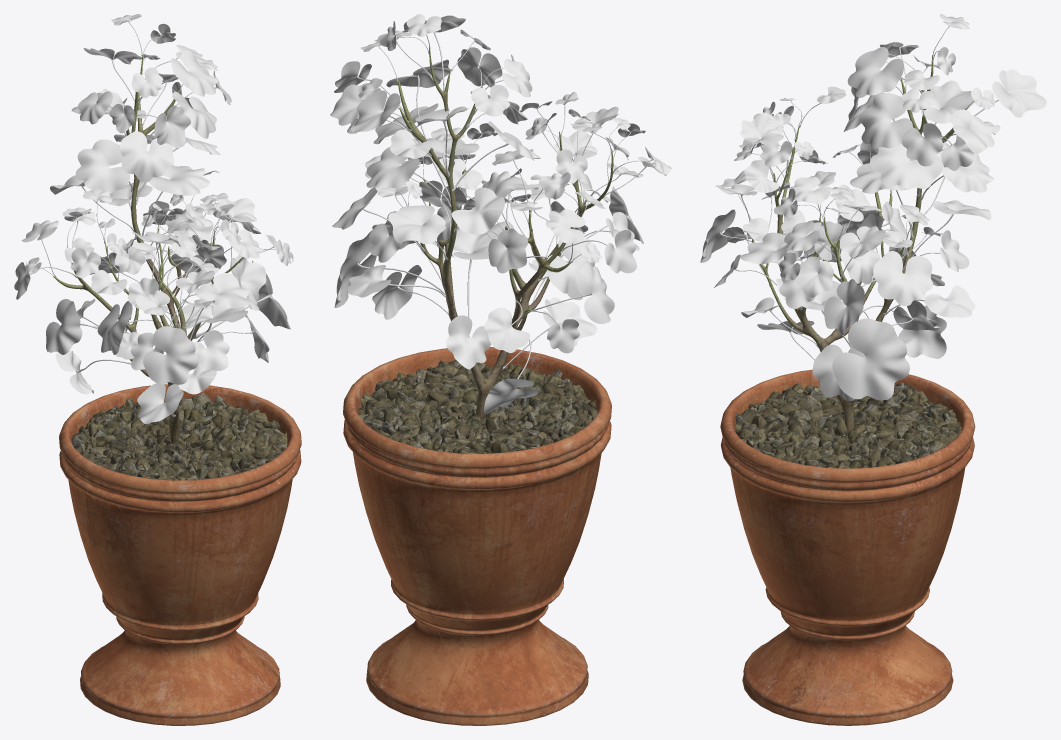
The model's file is potted_plant_01_2k.fbx.
The picture shows the model from 3 angles, left to right: view 1: azimuth 30°, elevation 25°; view 2: azimuth 150°, elevation 25°; view 3: azimuth 270°, elevation 25°; orthographic projection. The views are drawn at different scales.
Visible parts, largest first — view 1: potted_plant_01_pot, potted_plant_01_leaves, potted_plant_01_pebbles, potted_plant_01_stem; view 2: potted_plant_01_pot, potted_plant_01_leaves, potted_plant_01_pebbles, potted_plant_01_stem; view 3: potted_plant_01_pot, potted_plant_01_leaves, potted_plant_01_pebbles, potted_plant_01_stem.
Part boxes in pixels (x1,y1,x2,y2): potted_plant_01_pot: [59, 384, 301, 725]; potted_plant_01_leaves: [14, 14, 293, 423]; potted_plant_01_pebbles: [71, 392, 287, 480]; potted_plant_01_stem: [53, 54, 244, 443]; potted_plant_01_pot: [343, 347, 611, 725]; potted_plant_01_leaves: [330, 14, 671, 414]; potted_plant_01_pebbles: [358, 360, 597, 453]; potted_plant_01_stem: [397, 49, 612, 420]; potted_plant_01_pot: [720, 369, 975, 725]; potted_plant_01_leaves: [700, 14, 1046, 401]; potted_plant_01_pebbles: [735, 382, 961, 468]; potted_plant_01_stem: [751, 55, 966, 431].
Size of the model in its own units: 58.74 by 134 by 63.36.
2 materials, 1 textured.
